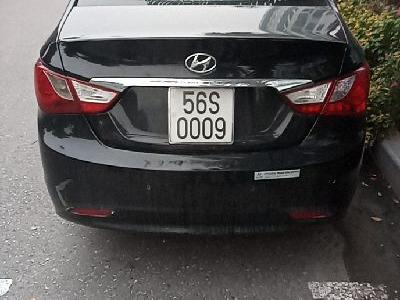lisence: (166, 81, 236, 146)
